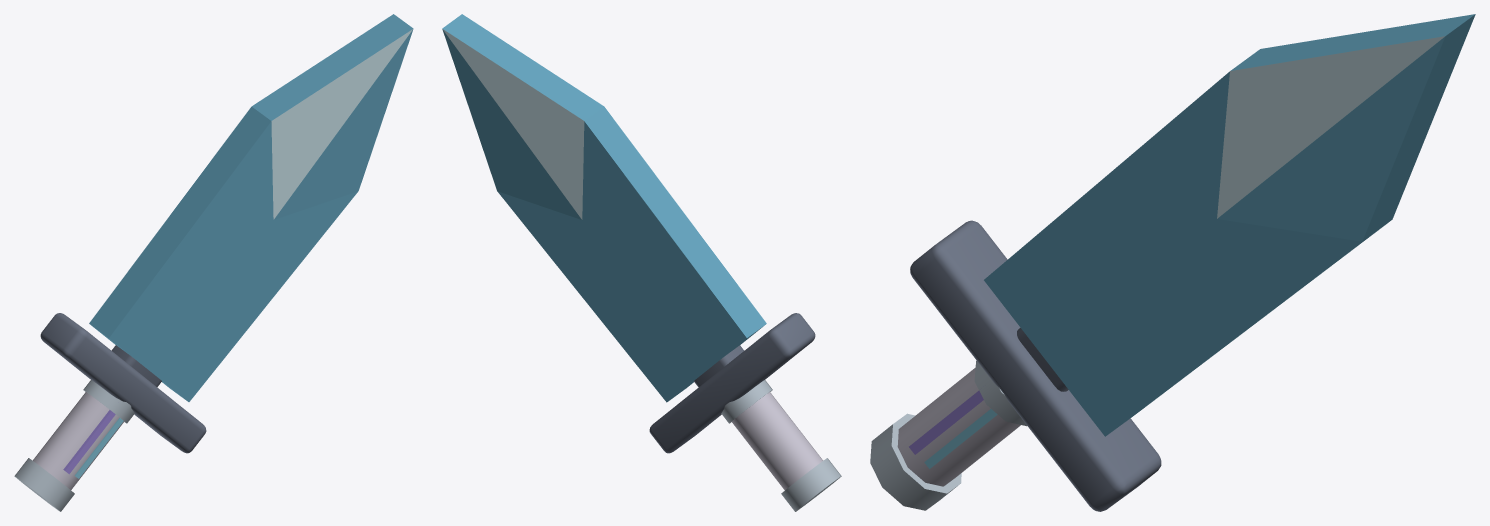
The model's file is crystalsword.glb.
3 views of the same model, side by side, from view 1: azimuth 30°, elevation 25°; view 2: azimuth 150°, elevation 25°; view 3: azimuth 330°, elevation 25° (orthographic). The views are drawn at different scales.
Visible parts, largest first — view 1: _crystal_facet, _box.002, _box; view 2: _crystal_facet, _box.002, _box; view 3: _crystal_facet, _box.002, _box.
Boxes of the visible parts, box(x1,y1,x2,y2) form: _crystal_facet: box(89, 14, 413, 401); _box.002: box(14, 313, 206, 511); _box: box(33, 392, 124, 489); _crystal_facet: box(442, 14, 766, 402); _box.002: box(649, 313, 841, 511); _box: box(731, 392, 823, 490); _crystal_facet: box(984, 14, 1475, 436); _box.002: box(870, 220, 1161, 511); _box: box(897, 367, 1020, 486).
Bounding box in the file's own units: 0.9638 × 0.9645 × 0.1331.
